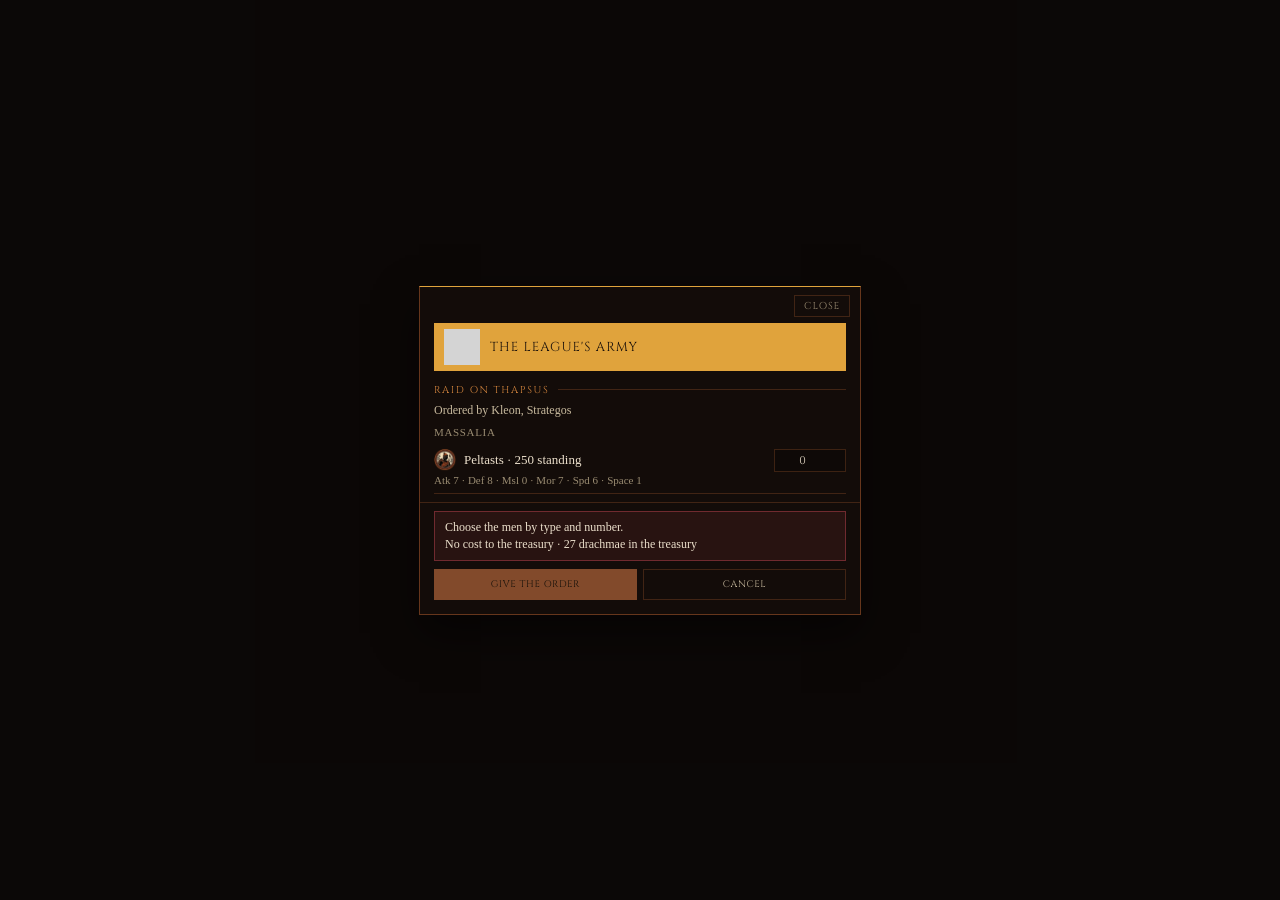
Scenario: the League's order sheet and the treasury › a voyage the treasury cannot pay for is refused in the server's sentence, and the order cannot be given
Replace the text in the number field named "Peltasts from Massalia" with "40" at (810,460), box [774, 448, 846, 472]
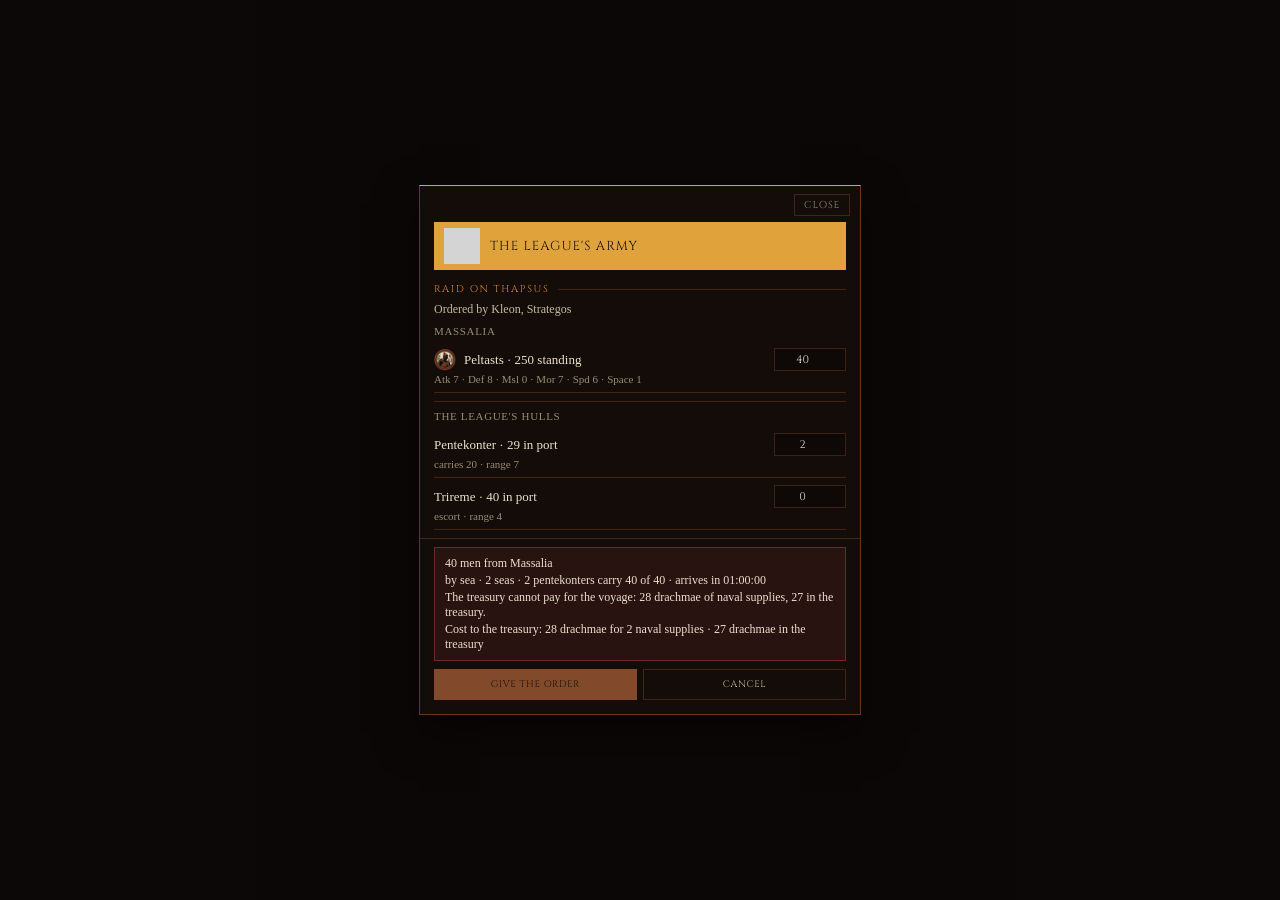
Expected: the button with class "w2map-order-give" is disabled, [434, 669, 637, 700]
Result: the text with test id "order-cost" shows "Cost to the treasury: 28 drachmae for 2 naval supplies · 27 drachmae in the treasury" at [445, 622, 835, 652]
Result: the element with class "w2map-verdict" shows "The treasury cannot pay for the voyage: 28 drachmae of naval supplies, 27 in the treasury." at [445, 590, 833, 619]
